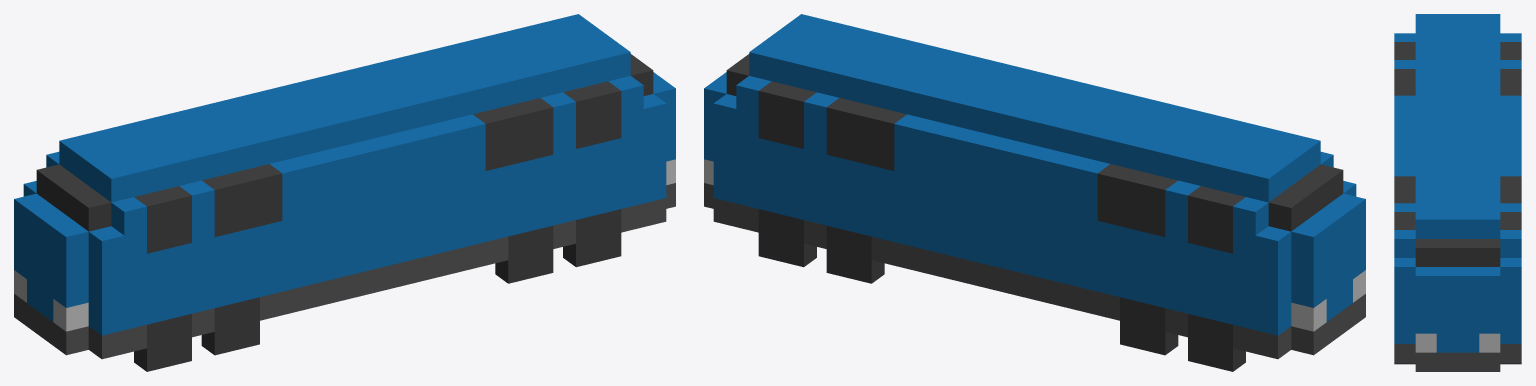
Rendered from train-v3-blue.gltf.
3 renders of one model, left to right at view 1: azimuth 30°, elevation 25°; view 2: azimuth 150°, elevation 25°; view 3: azimuth 270°, elevation 25°, orthographic. The views are drawn at different scales.
Visible parts, largest first — view 1: model, wheels; view 2: model, wheels; view 3: model.
Part boxes in pixels (x1,y1,x2,y2): model: (14, 14, 675, 359); wheels: (134, 209, 621, 371); model: (704, 14, 1365, 359); wheels: (758, 209, 1245, 371); model: (1394, 14, 1521, 371).
Size of the model in its own units: 2.7 by 0.8 by 0.6.
Materials: 2 (2 with a texture image).
